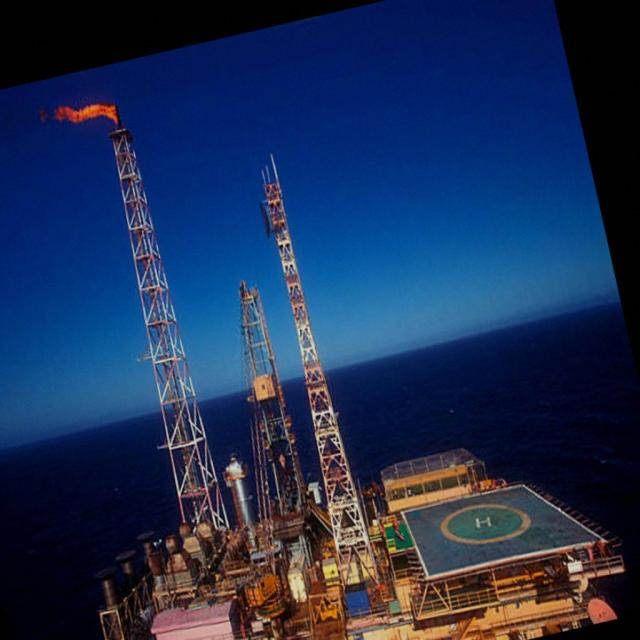helipad: (437, 501, 532, 544)
